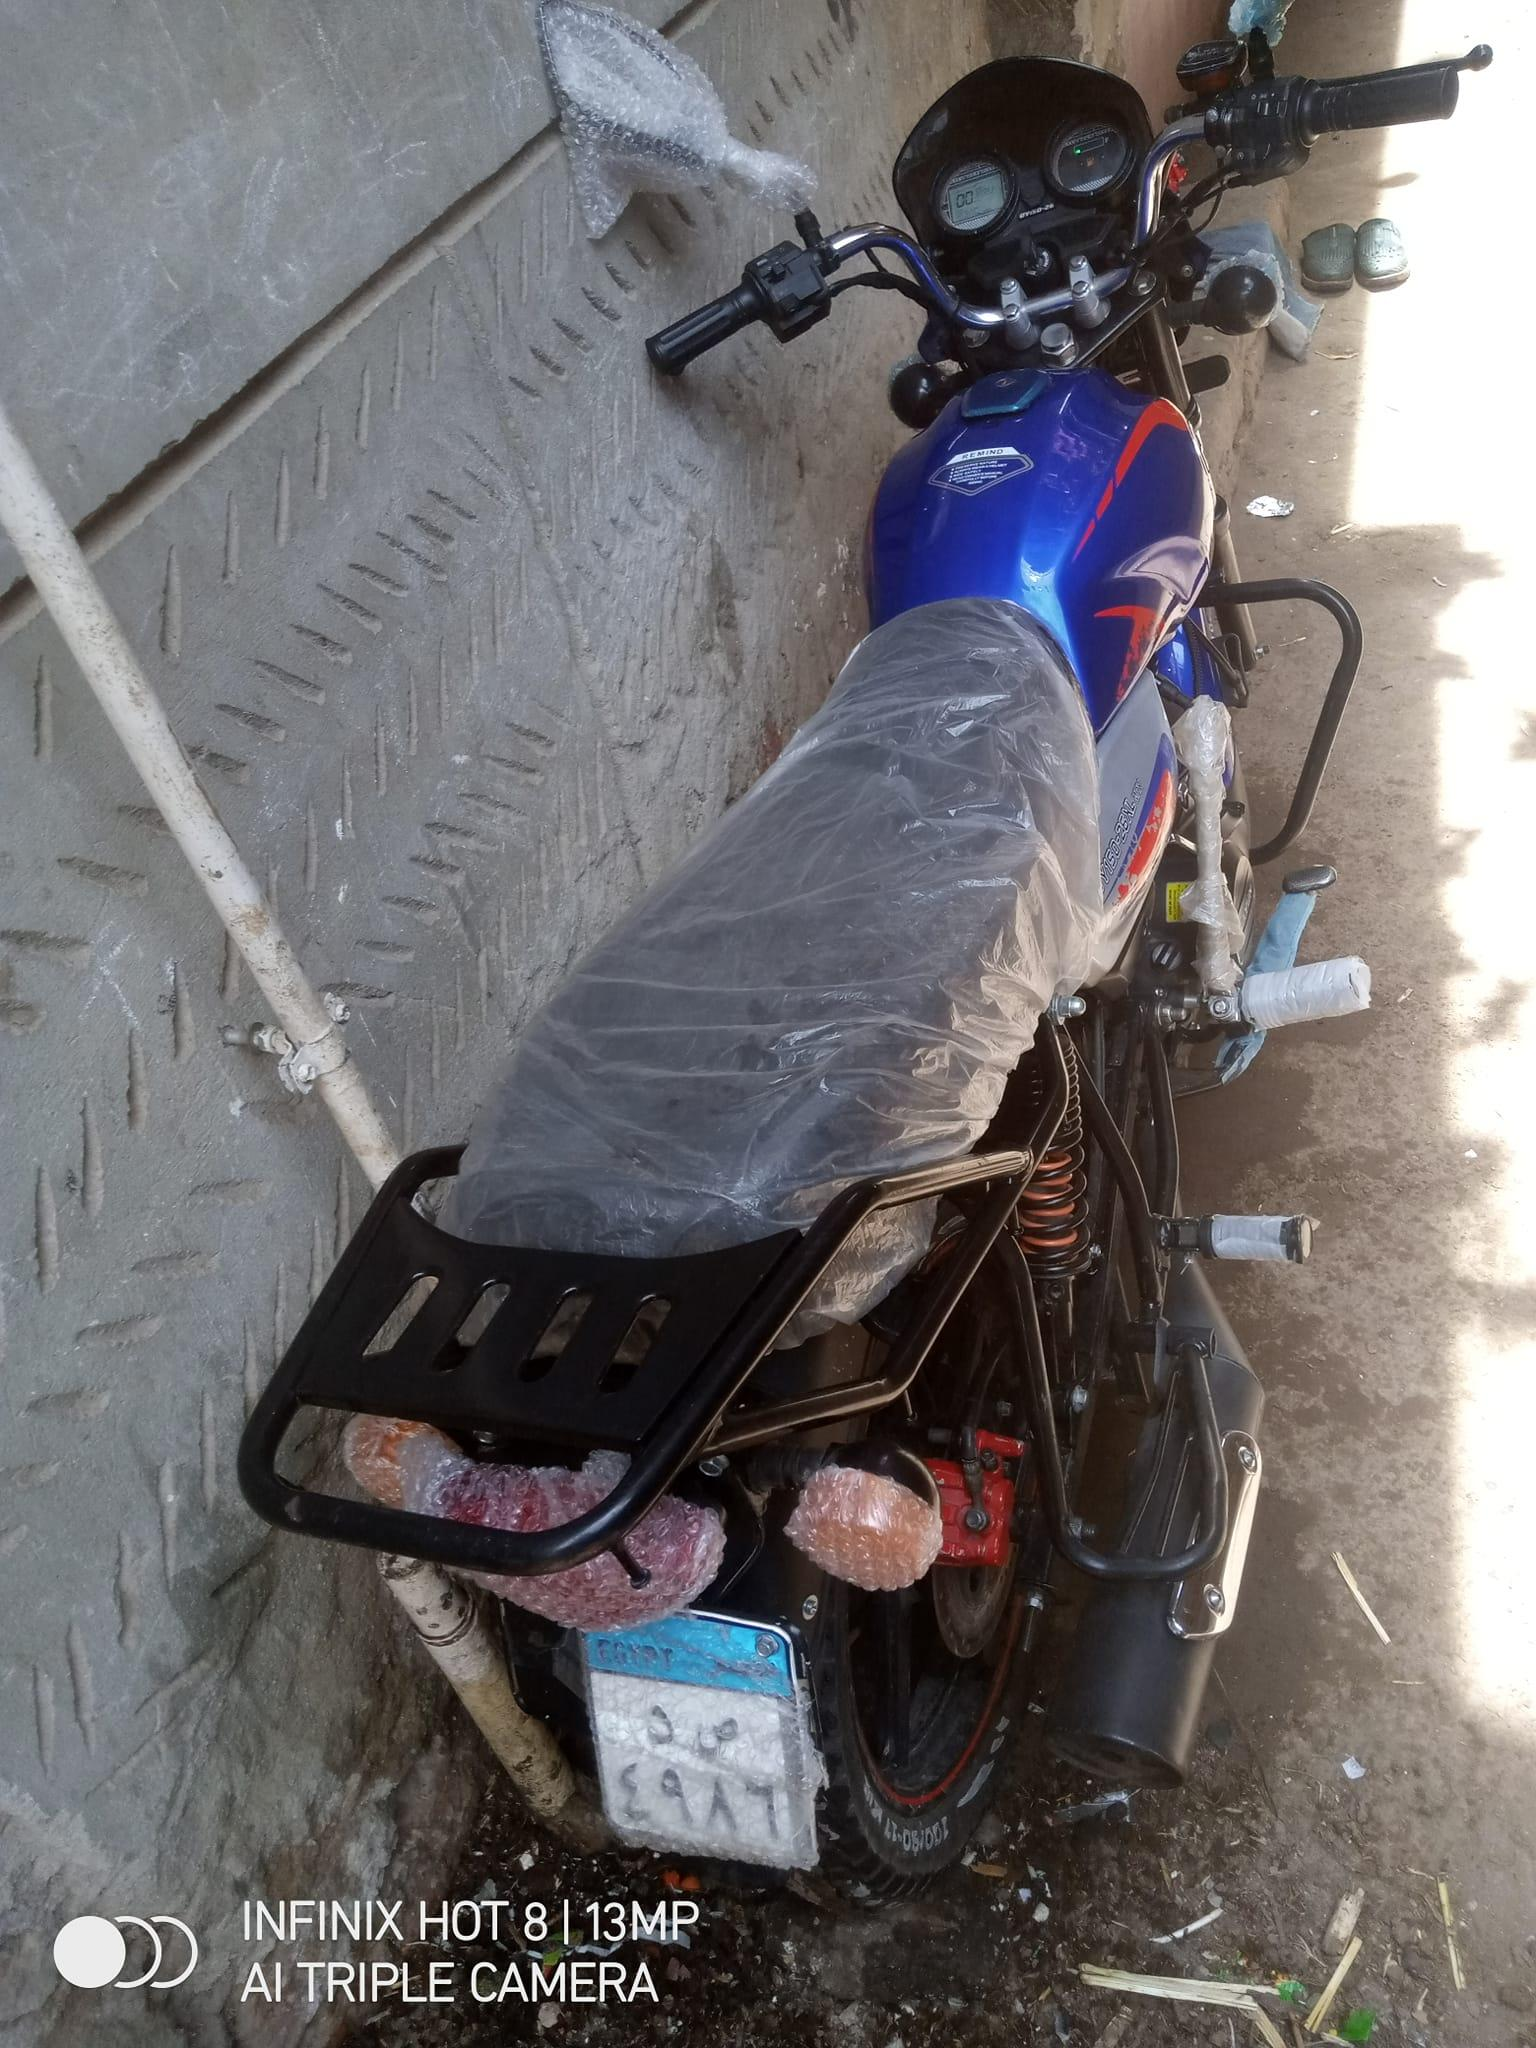License Plate: (567, 1617, 818, 1860)
